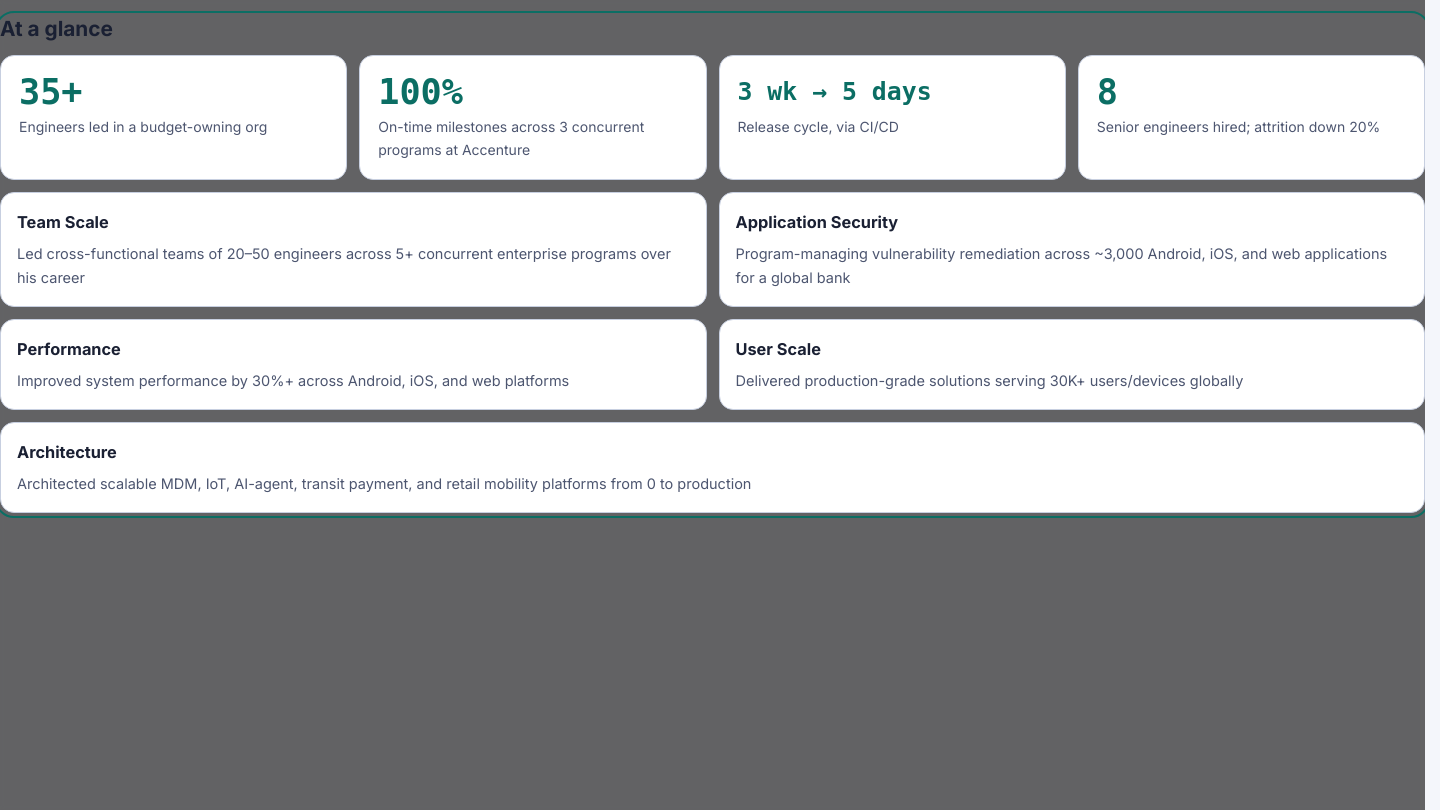
Impact (At a glance) › a click on the dialog backdrop closes it
Earlier steps of the test are not shown.
What coordinates should you click on to do the following:
click the dialog "At a glance"
I would click on:
 (712, 264)
Its box is top-left (0, 16), bottom-right (1425, 513).
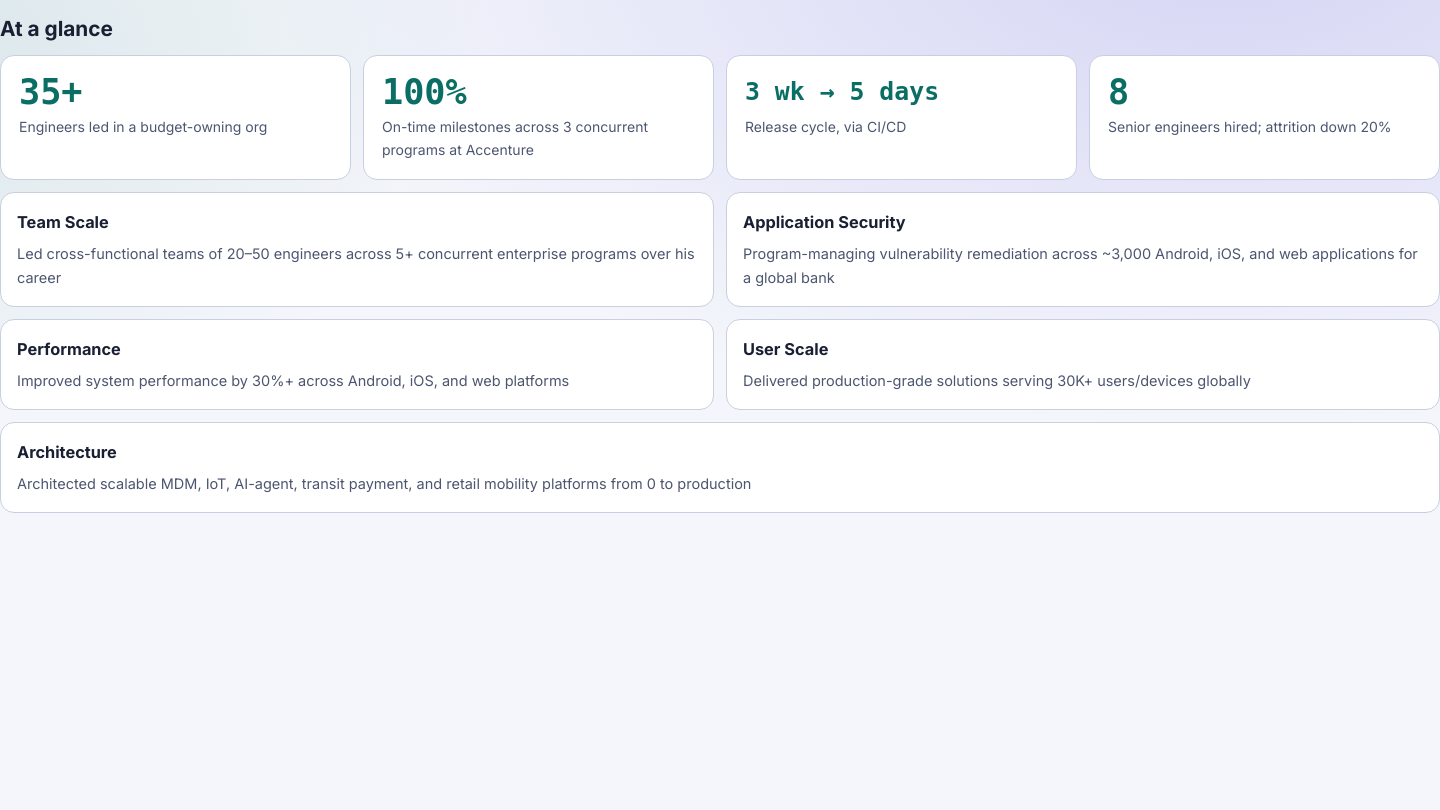
Result: the dialog "At a glance" does not have attribute open
